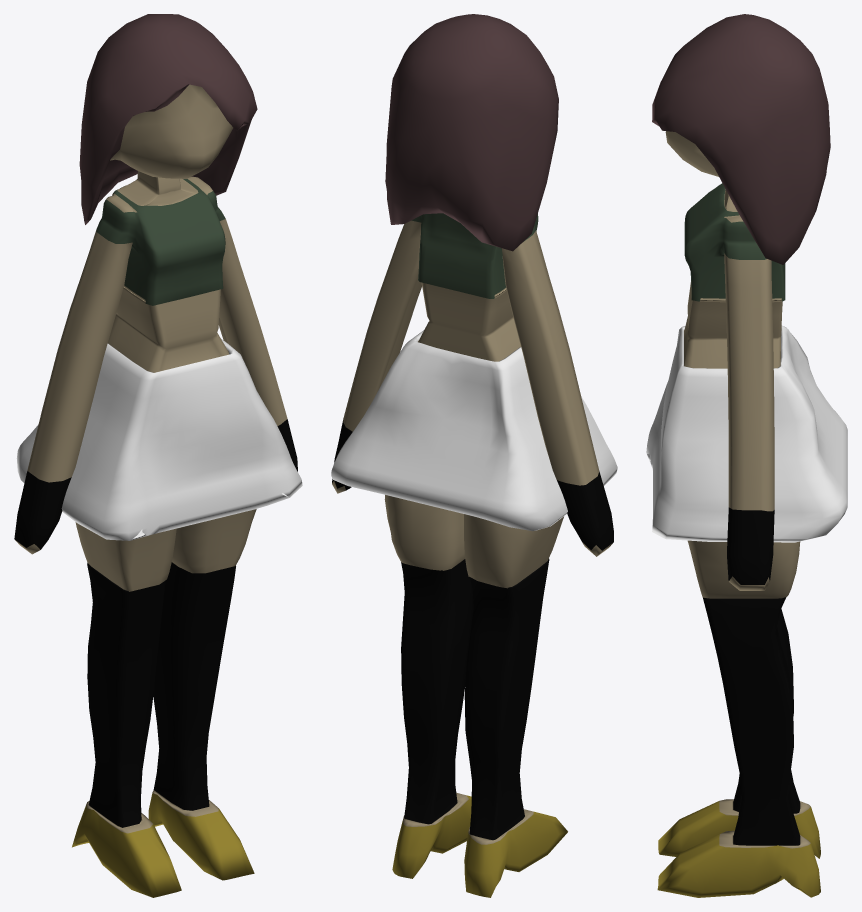
Rendered from FCharacter.fbx.
3 views of the same model, side by side, from view 1: azimuth 30°, elevation 25°; view 2: azimuth 150°, elevation 25°; view 3: azimuth 270°, elevation 25° (orthographic).
Visible parts, largest first — view 1: pCube1, pPlatonic1; view 2: pCube1, pPlatonic1; view 3: pCube1, pPlatonic1.
Boxes of the visible parts, x1,y1,x2,y2 form: pCube1: (14, 171, 302, 897); pPlatonic1: (79, 14, 257, 224); pCube1: (331, 213, 617, 897); pPlatonic1: (385, 14, 558, 251); pCube1: (646, 183, 847, 897); pPlatonic1: (652, 14, 830, 264).
Bounding box in the file's own units: 1.59 × 4.7 × 1.01.
